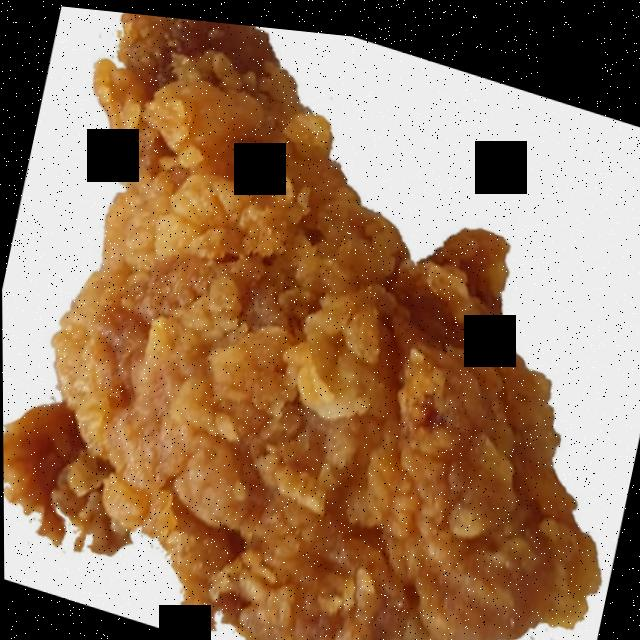Frango: (0, 7, 610, 640)
